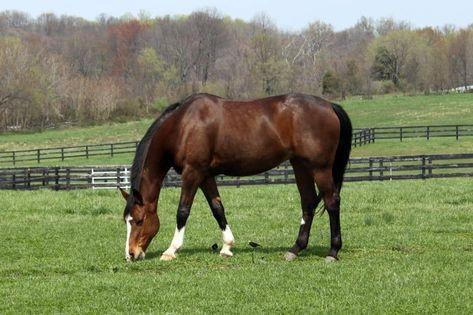horse: (117, 91, 353, 263)
